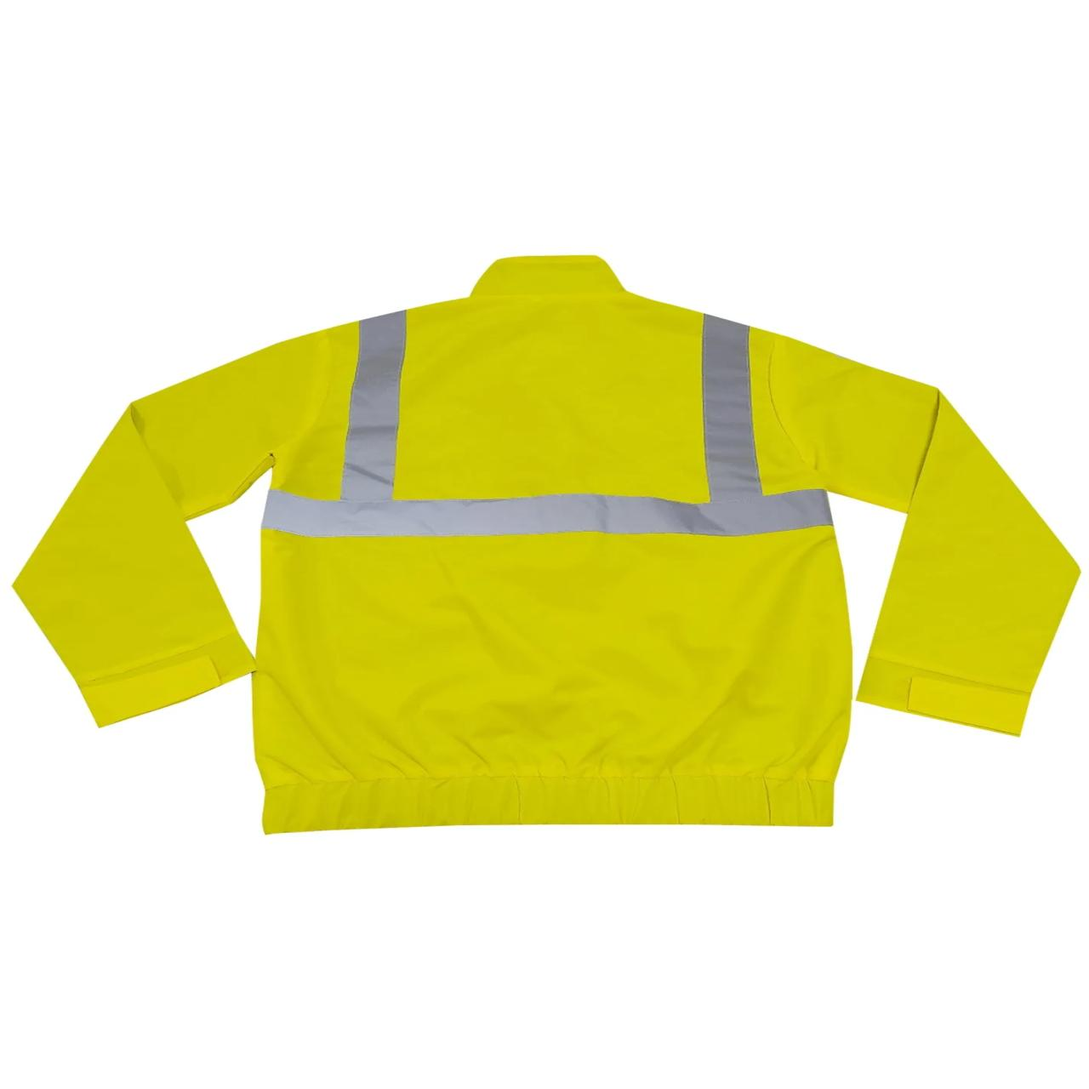NO_Safety_Vest: (5, 240, 1088, 853)
